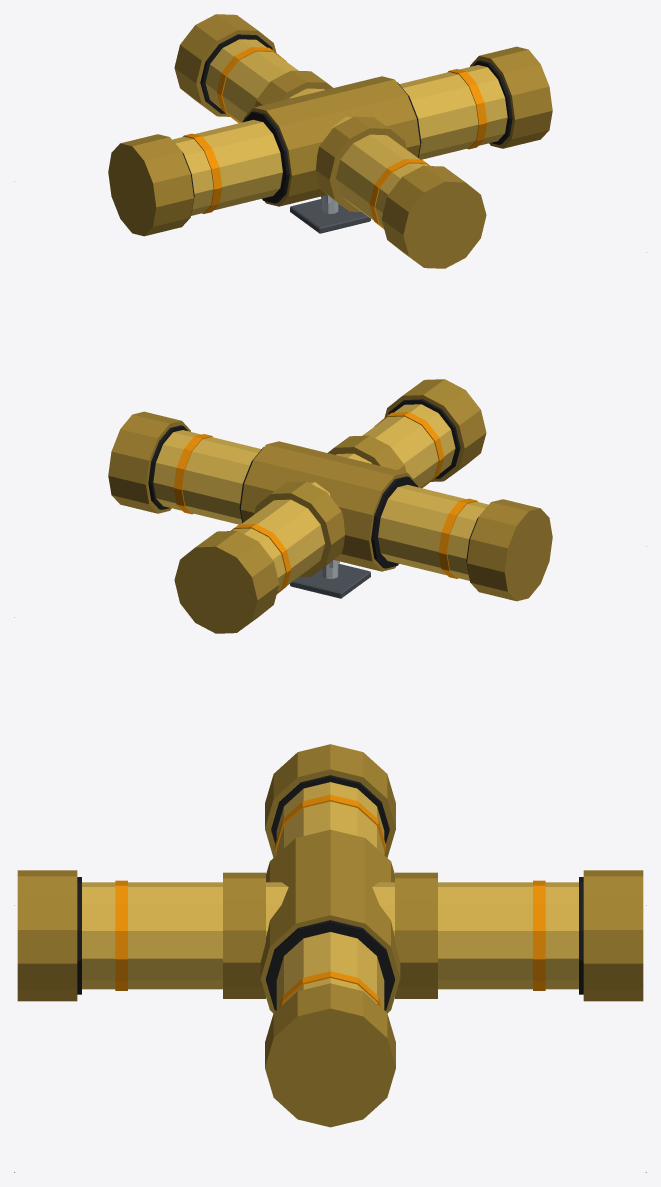
File: tuyau_croix_t2.glb
The picture shows the model from 3 angles, top to bottom: view 1: azimuth 30°, elevation 25°; view 2: azimuth 150°, elevation 25°; view 3: azimuth 270°, elevation 25°; orthographic projection. The views are drawn at different scales.
Parts seen in each view (by area): view 1: pieces_laiton_sombre.014, pieces_laiton.014, pieces_rive_t2.016, pieces_noir.022, pieces_acier_sombre.050; view 2: pieces_laiton_sombre.014, pieces_laiton.014, pieces_rive_t2.016, pieces_noir.022, pieces_acier_sombre.050; view 3: pieces_laiton_sombre.014, pieces_laiton.014, pieces_noir.022, pieces_rive_t2.016.
Boxes of the visible parts, box(x1,y1,x2,y2) form: pieces_laiton_sombre.014: box(108, 14, 552, 268); pieces_laiton.014: box(172, 39, 507, 226); pieces_rive_t2.016: box(183, 47, 486, 229); pieces_noir.022: box(174, 34, 512, 212); pieces_acier_sombre.050: box(290, 199, 370, 233); pieces_laiton_sombre.014: box(108, 379, 552, 633); pieces_laiton.014: box(153, 404, 488, 591); pieces_rive_t2.016: box(174, 412, 477, 594); pieces_noir.022: box(148, 399, 486, 577); pieces_acier_sombre.050: box(290, 564, 370, 598); pieces_laiton_sombre.014: box(17, 744, 643, 1127); pieces_laiton.014: box(82, 782, 578, 1009); pieces_noir.022: box(77, 775, 583, 1010); pieces_rive_t2.016: box(115, 794, 545, 1007).
Bounding box in the file's own units: 1 × 0.2905 × 1.
